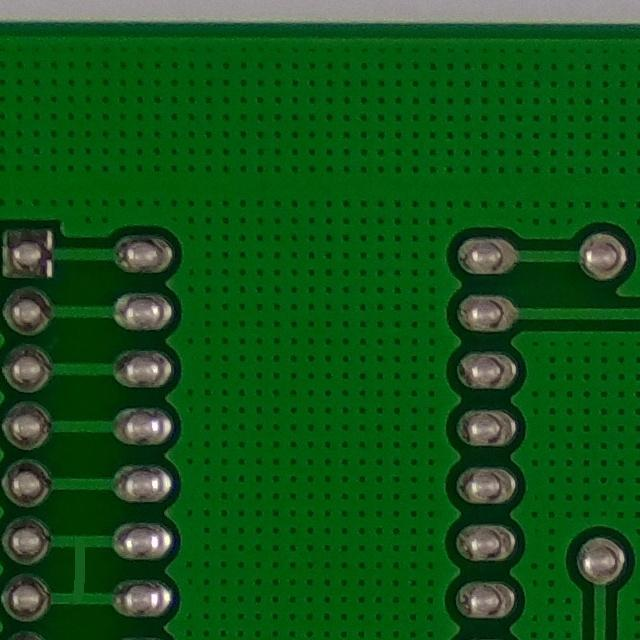short: (25, 524, 124, 617)
